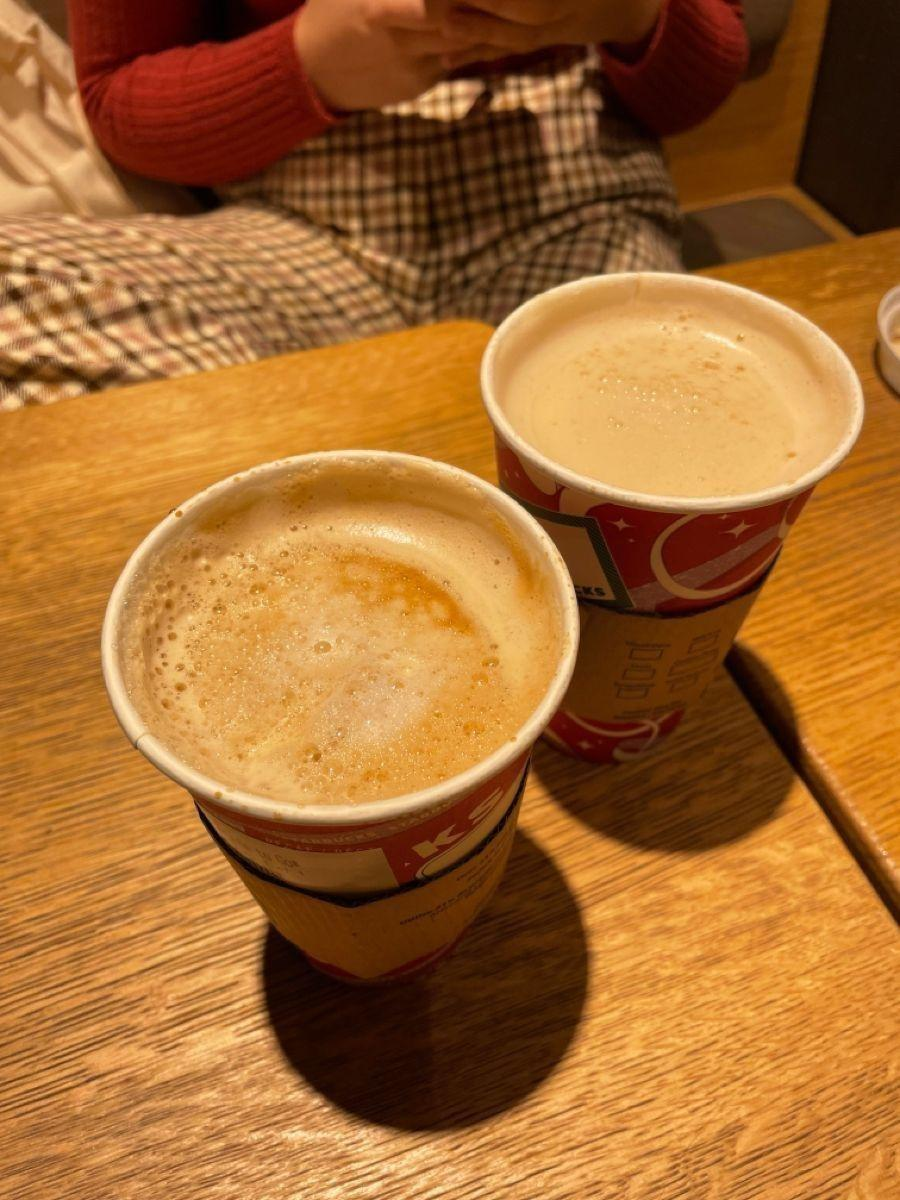cup-disposable: (98, 446, 582, 987), (479, 269, 867, 759)
